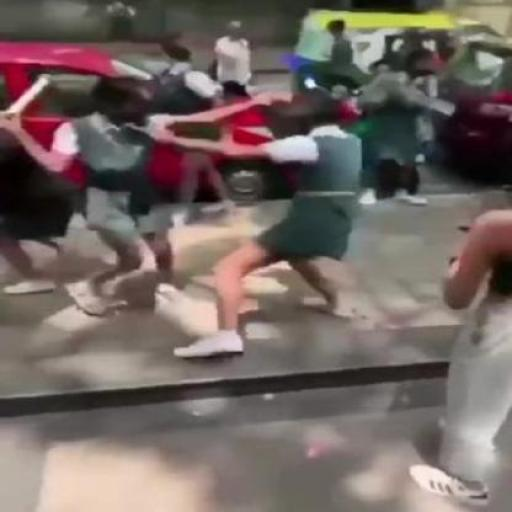Fighting: (3, 76, 366, 360)
